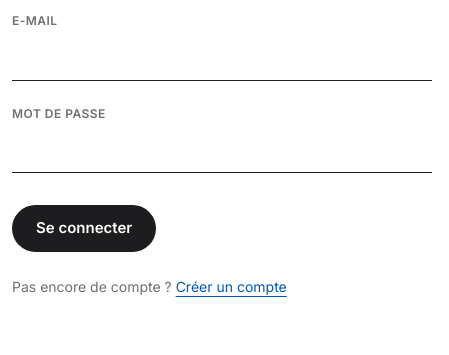
Test case: AuthForm : quand le serveur limite les tentatives › un 429 de slowapi affiche un message lisible, pas une erreur vide
Type "l@t.fr" into the field labelled "E-mail". click: (222, 59)
box: top-left (12, 38), bottom-right (432, 80)
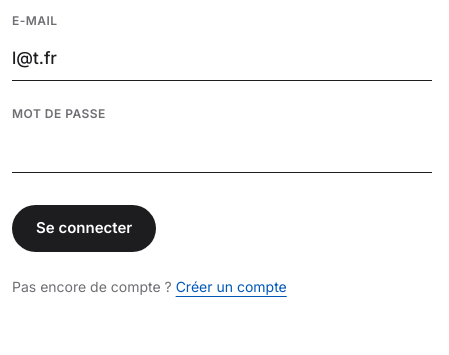
Type "motdepasse123" into the password field labelled "Mot de passe". click: (222, 152)
box: top-left (12, 130), bottom-right (432, 173)
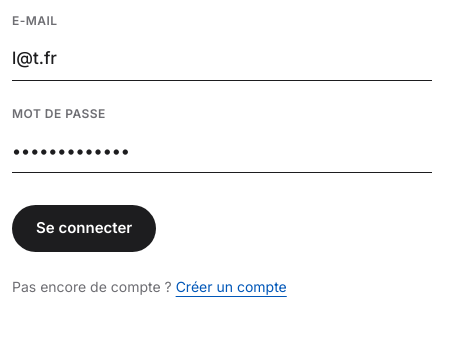
Click the button "Se connecter". click: click(84, 228)
box: top-left (12, 205), bottom-right (156, 252)
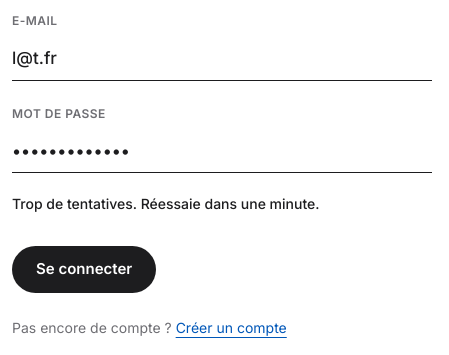
expect the text "Trop de tentatives. Réessaie dans une minute." is shown: met, box top-left (12, 195), bottom-right (320, 212)
